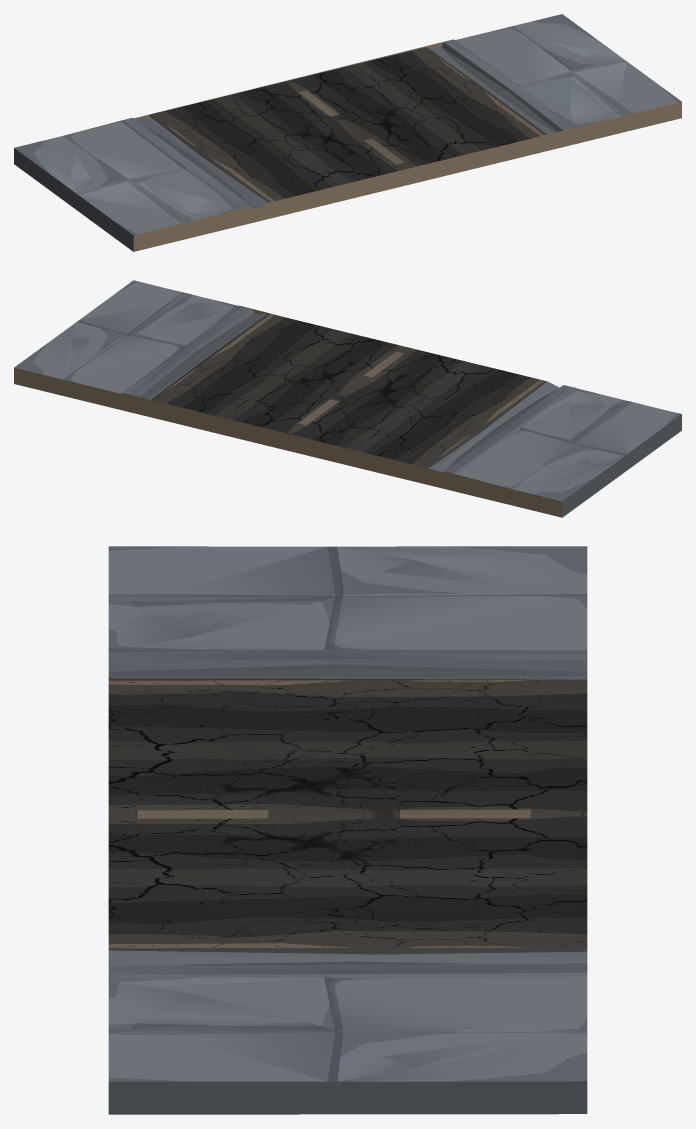
Rendered from roaddeformed_1.fbx.
The picture shows the model from 3 angles, top to bottom: view 1: azimuth 30°, elevation 25°; view 2: azimuth 150°, elevation 25°; view 3: azimuth 270°, elevation 25°; orthographic projection. The views are drawn at different scales.
Parts seen in each view (by area): view 1: Road_2_Deformed; view 2: Road_2_Deformed; view 3: Road_2_Deformed.
Part boxes in pixels (x1,y1,x2,y2): Road_2_Deformed: (14, 14, 681, 251); Road_2_Deformed: (14, 280, 681, 517); Road_2_Deformed: (108, 546, 587, 1114).
Size of the model in its own units: 1300 by 40.33 by 491.
Materials: 2 (2 with a texture image).
